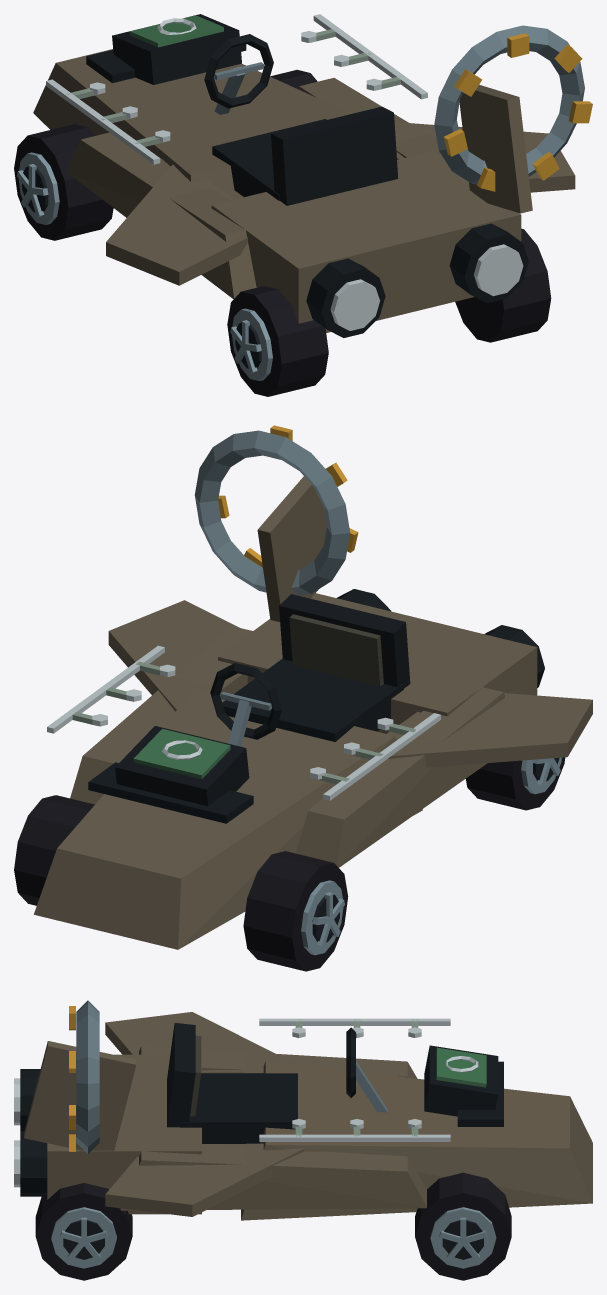
Rendered from kart.glb.
The picture shows the model from 3 angles, top to bottom: view 1: azimuth 30°, elevation 25°; view 2: azimuth 150°, elevation 25°; view 3: azimuth 270°, elevation 25°; orthographic projection. The views are drawn at different scales.
Visible parts, largest first — view 1: identity-shuttle-shuttle-flight-planform, identity-shuttle-driver-cockpit, identity-shuttle-motif-gate-ring, wheel-rear-left, wheel-front-left, identity-shuttle-motif-scanner, wheel-rear-right, identity-shuttle-motif-circuit, wheel-front-right; view 2: identity-shuttle-shuttle-flight-planform, identity-shuttle-driver-cockpit, identity-shuttle-motif-gate-ring, wheel-front-left, identity-shuttle-motif-scanner, identity-shuttle-motif-circuit, wheel-front-right, wheel-rear-left; view 3: identity-shuttle-shuttle-flight-planform, identity-shuttle-driver-cockpit, wheel-front-right, wheel-rear-right, identity-shuttle-motif-scanner, identity-shuttle-motif-gate-ring, identity-shuttle-motif-circuit.
Boxes of the visible parts, x1,y1,x2,y2 form: identity-shuttle-shuttle-flight-planform: (33, 44, 575, 337); identity-shuttle-driver-cockpit: (204, 34, 398, 205); identity-shuttle-motif-gate-ring: (434, 25, 592, 191); wheel-rear-left: (227, 286, 328, 396); wheel-front-left: (14, 124, 113, 240); identity-shuttle-motif-scanner: (112, 14, 241, 84); wheel-rear-right: (455, 228, 551, 342); identity-shuttle-motif-circuit: (46, 14, 427, 164); wheel-front-right: (270, 69, 317, 88); identity-shuttle-shuttle-flight-planform: (34, 476, 592, 949); identity-shuttle-driver-cockpit: (210, 594, 410, 746); identity-shuttle-motif-gate-ring: (194, 425, 358, 595); wheel-front-left: (243, 851, 348, 971); identity-shuttle-motif-scanner: (115, 726, 249, 806); identity-shuttle-motif-circuit: (47, 645, 440, 800); wheel-front-right: (14, 795, 94, 905); wheel-rear-left: (466, 757, 565, 810); identity-shuttle-shuttle-flight-planform: (14, 1012, 592, 1220); identity-shuttle-driver-cockpit: (167, 1023, 387, 1143); wheel-front-right: (415, 1172, 511, 1280); wheel-rear-right: (35, 1183, 132, 1280); identity-shuttle-motif-scanner: (424, 1045, 498, 1116); identity-shuttle-motif-gate-ring: (69, 1000, 99, 1153); identity-shuttle-motif-circuit: (259, 1018, 450, 1141).
Bounding box in the file's own units: 2.36 × 1.52 × 2.99.
